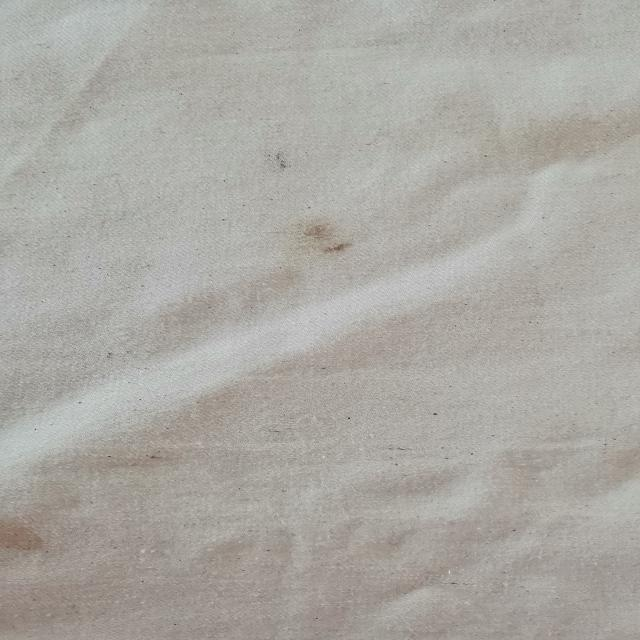taaaches: (291, 218, 369, 270), (4, 515, 52, 563), (253, 144, 315, 174)
